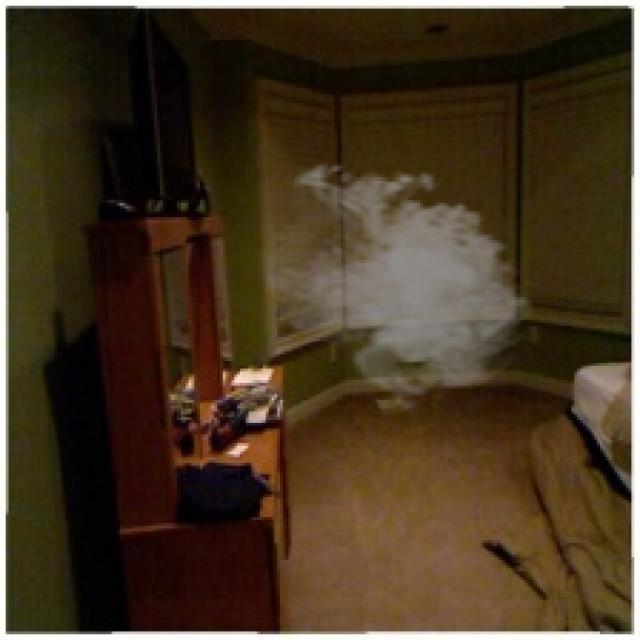Smoke: (254, 157, 537, 414)
